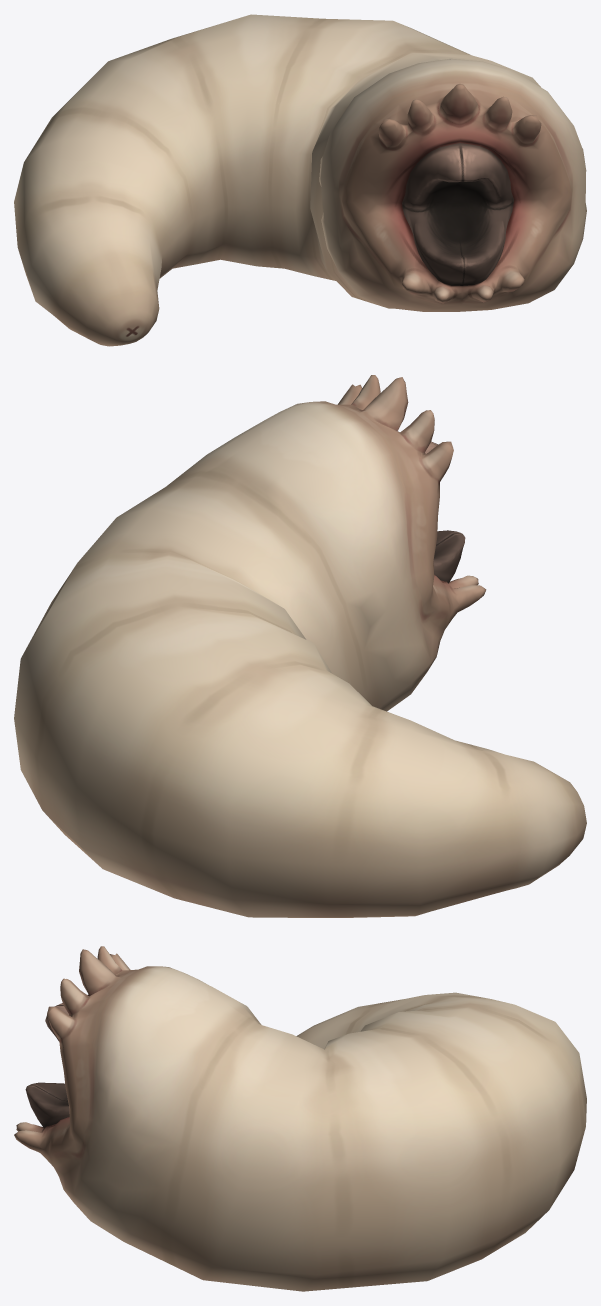
Rendered from Worm.fbx.
3 views of the same model, one above another, from view 1: azimuth 30°, elevation 25°; view 2: azimuth 150°, elevation 25°; view 3: azimuth 270°, elevation 25° (orthographic). The views are drawn at different scales.
Visible parts, largest first — view 1: Plane.002; view 2: Plane.002; view 3: Plane.002.
Boxes of the visible parts, x1,y1,x2,y2 form: Plane.002: (14, 14, 586, 346); Plane.002: (14, 375, 586, 917); Plane.002: (14, 946, 586, 1291).
Size of the model in its own units: 81.03 by 48.31 by 88.11.
